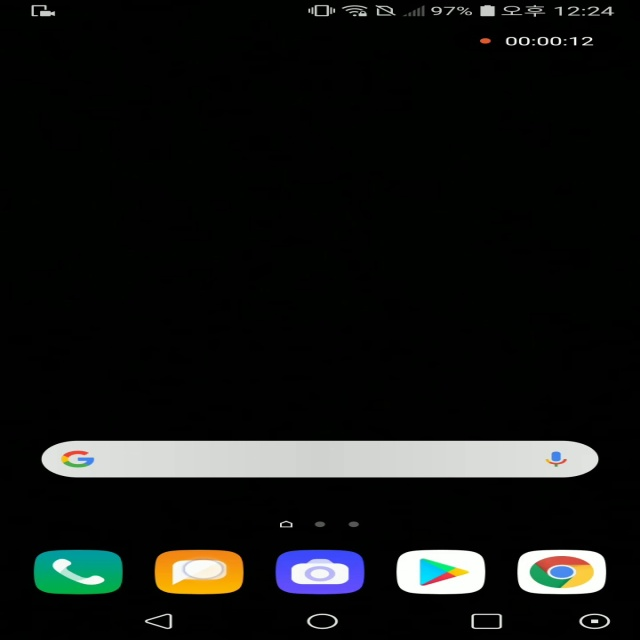Cursor: (181, 558, 225, 580)
